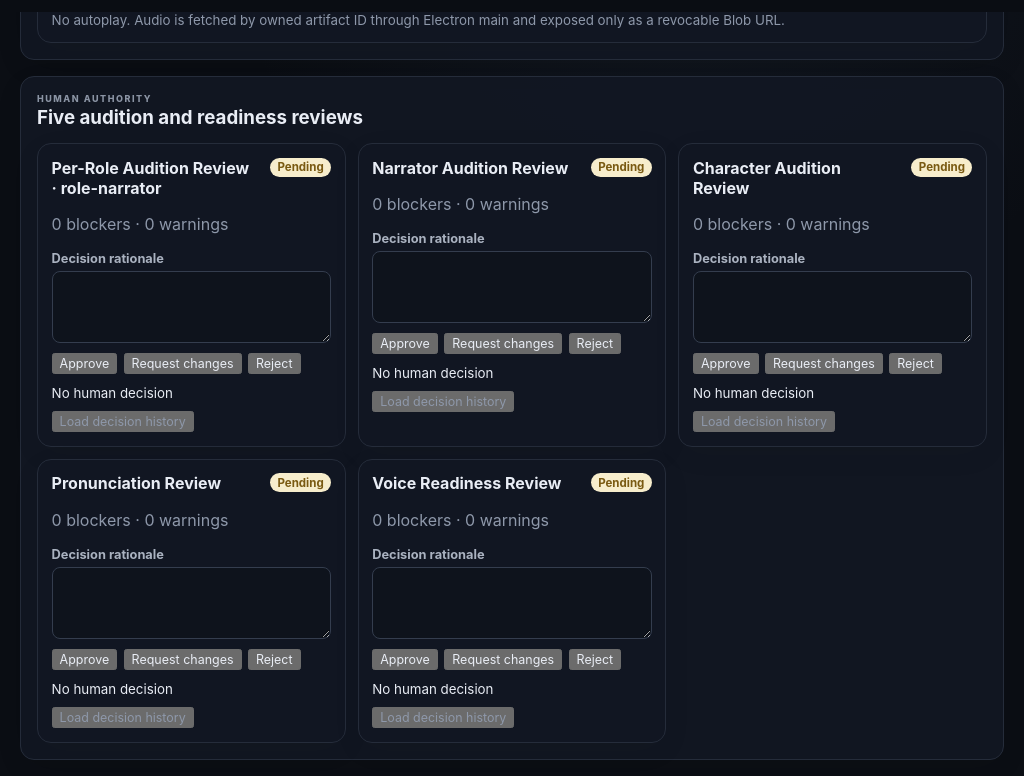
Test: AuditionsWorkspace › loads complete immutable review history through bounded pages
(page scrolled)
Expected: the text "Narrator Audition Review" is shown, 372,158 -> 568,178
Click the button "Load decision history" below "Narrator Audition Review". click: [443, 402]
box: 372,391 -> 514,412
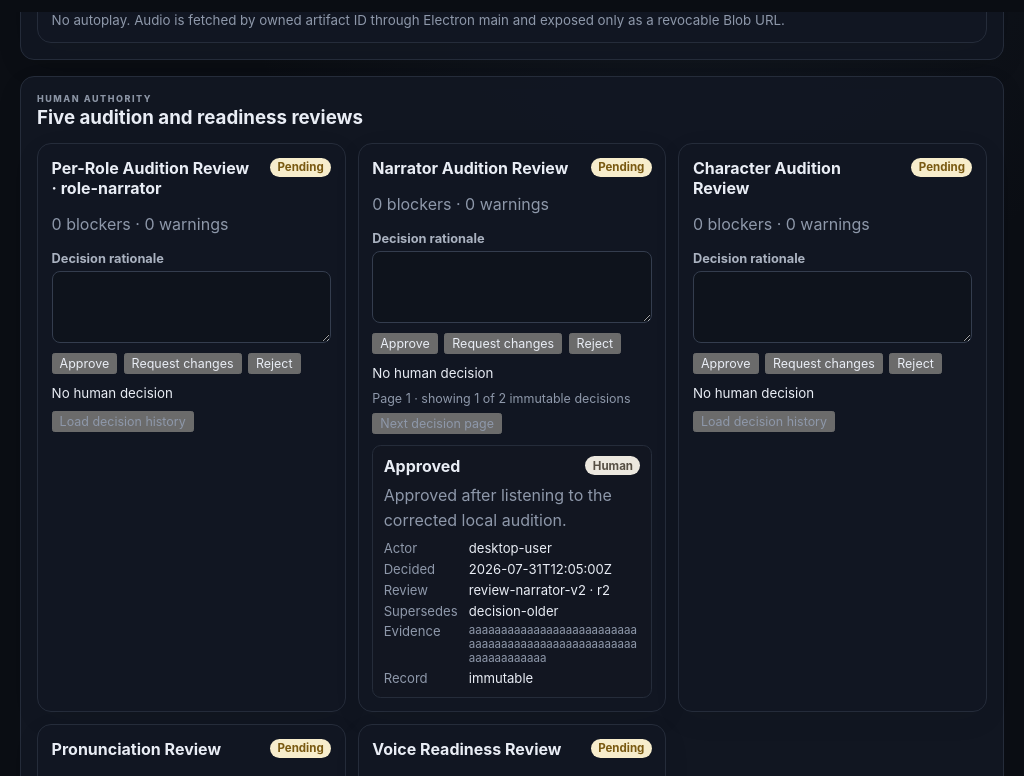
Expected: the text "Approved after listening to the corrected local audition." is shown, 384,483 -> 640,533
Expected: the text "Page 1 · showing 1 of 2 immutable decisions" is shown, 372,391 -> 630,406
Click the button "Next decision page". click: [437, 424]
box: 372,413 -> 502,434
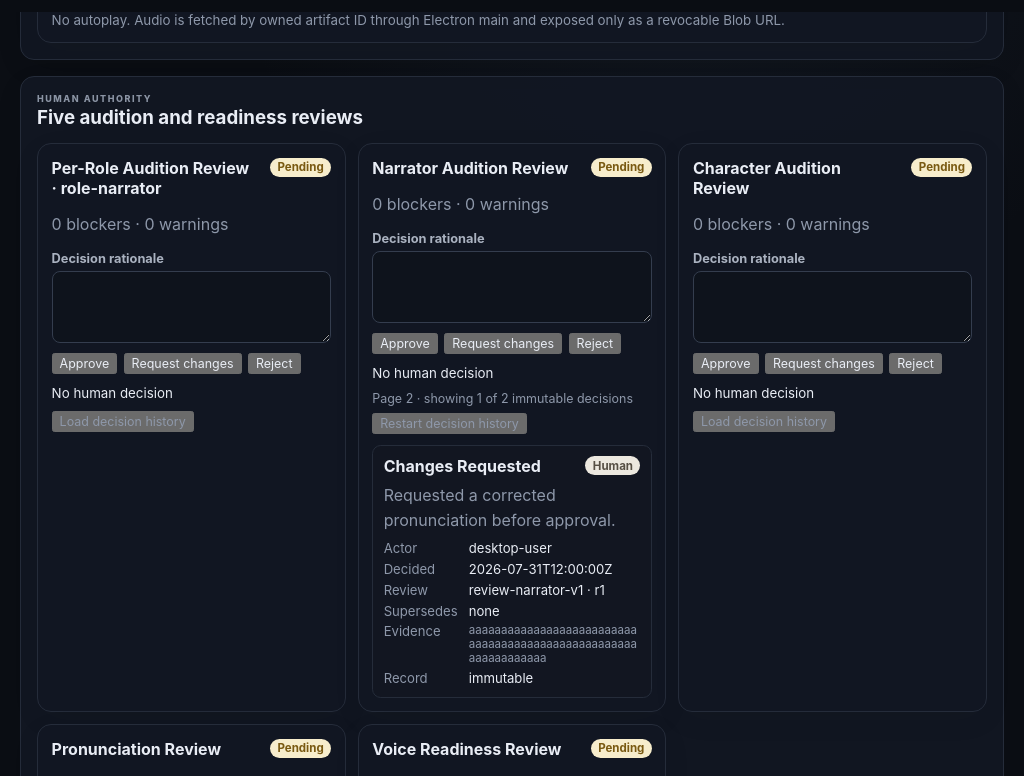
Expected: the text "Requested a corrected pronunciation before approval." is shown, 384,483 -> 640,533
Expected: the text "Approved after listening to the corrected local audition." is gone
Expected: the text "Page 2 · showing 1 of 2 immutable decisions" is shown, 372,391 -> 633,406
Click the button "Restart decision history". click: [450, 424]
box: 372,413 -> 527,434
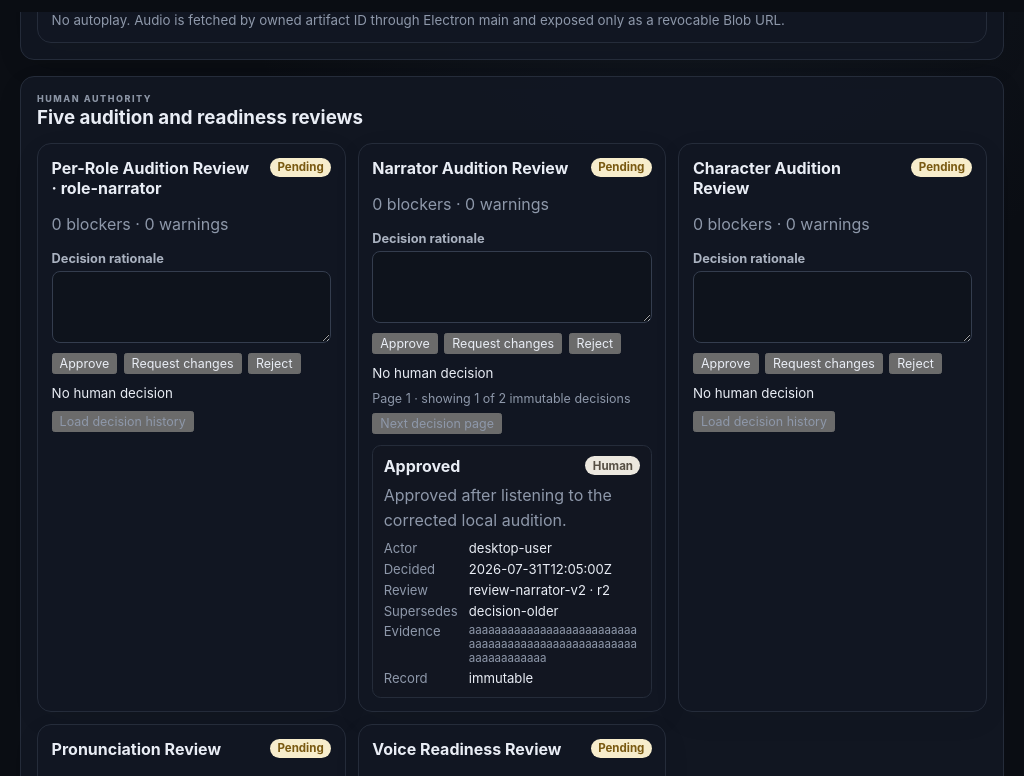
Expected: the text "Approved after listening to the corrected local audition." is shown, 384,483 -> 640,533
Expected: the text "Requested a corrected pronunciation before approval." is gone
